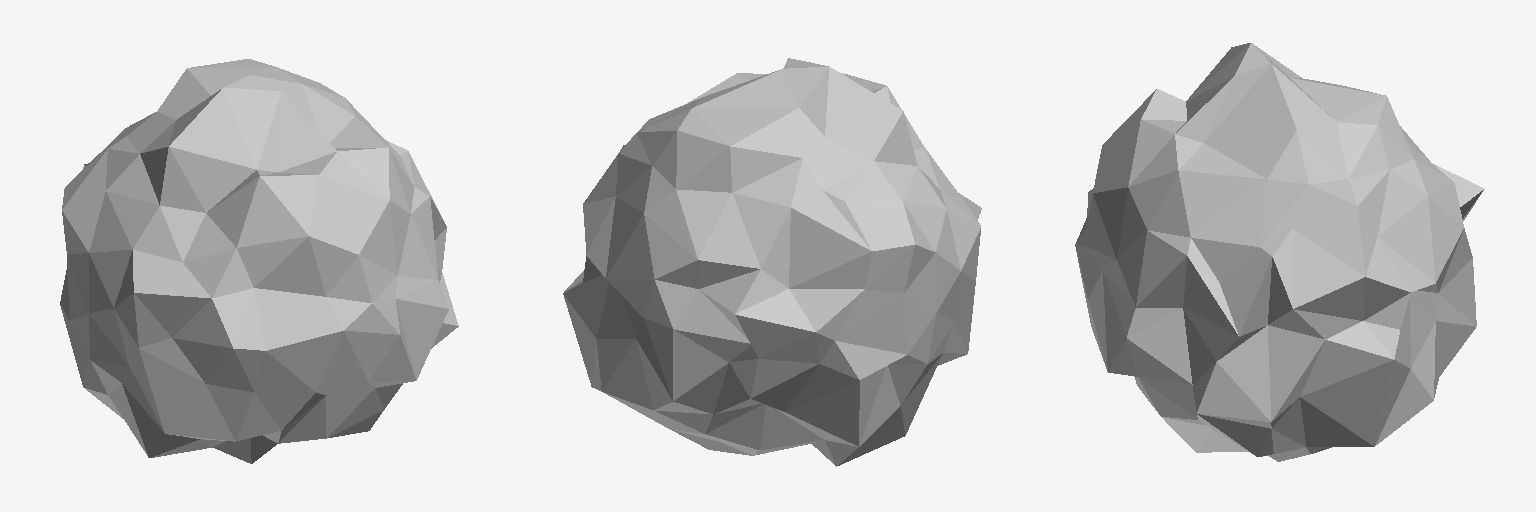
File: fire_000023.obj
3 renders of one model, left to right at view 1: azimuth 30°, elevation 25°; view 2: azimuth 150°, elevation 25°; view 3: azimuth 270°, elevation 25°, orthographic.
Parts seen in each view (by area): view 1: Icosphere; view 2: Icosphere; view 3: Icosphere.
Part boxes in pixels (bbox=[...]): Icosphere: bbox=[60, 59, 458, 463]; Icosphere: bbox=[563, 58, 981, 466]; Icosphere: bbox=[1075, 43, 1484, 461].
Bounding box in the file's own units: 1.52 × 1.62 × 1.58.